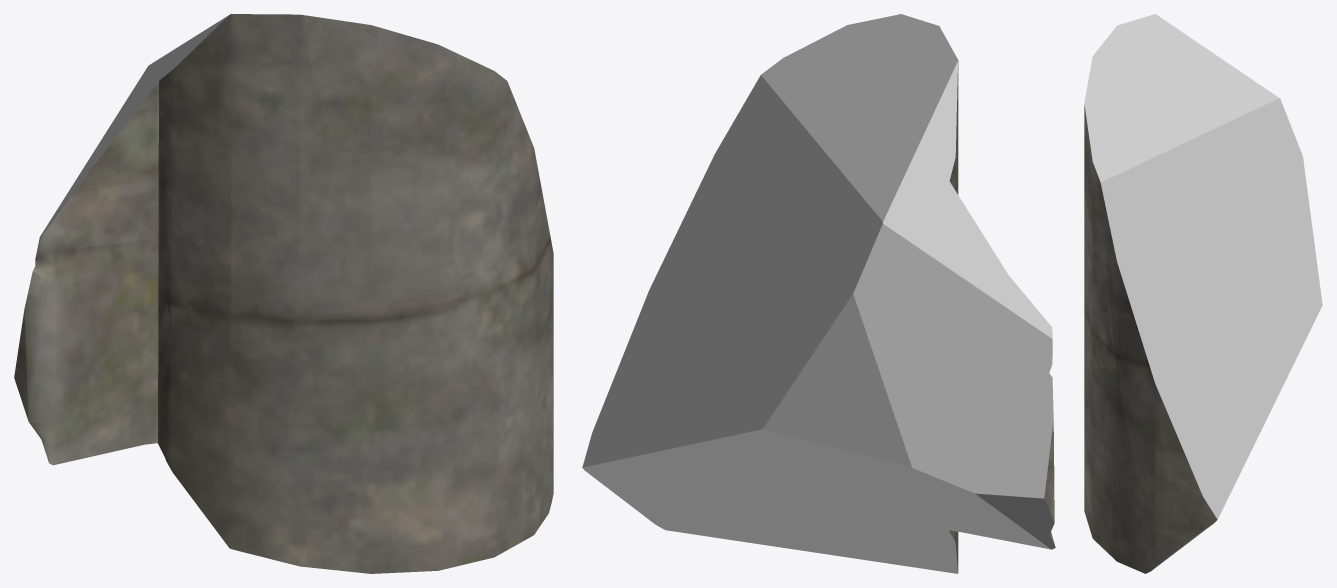
The model's file is ColumnDamage08_13.fbx.
3 views of the same model, side by side, from view 1: azimuth 30°, elevation 25°; view 2: azimuth 150°, elevation 25°; view 3: azimuth 270°, elevation 25° (orthographic). The views are drawn at different scales.
Visible parts, largest first — view 1: ColumnDamage08_DM.013; view 2: ColumnDamage08_DM.013; view 3: ColumnDamage08_DM.013.
Part boxes in pixels (<box>): ColumnDamage08_DM.013: <box>14,14,553,573</box>; ColumnDamage08_DM.013: <box>582,14,1055,573</box>; ColumnDamage08_DM.013: <box>1084,14,1322,573</box>.
Bounding box in the file's own units: 162 × 177 × 85.35.
